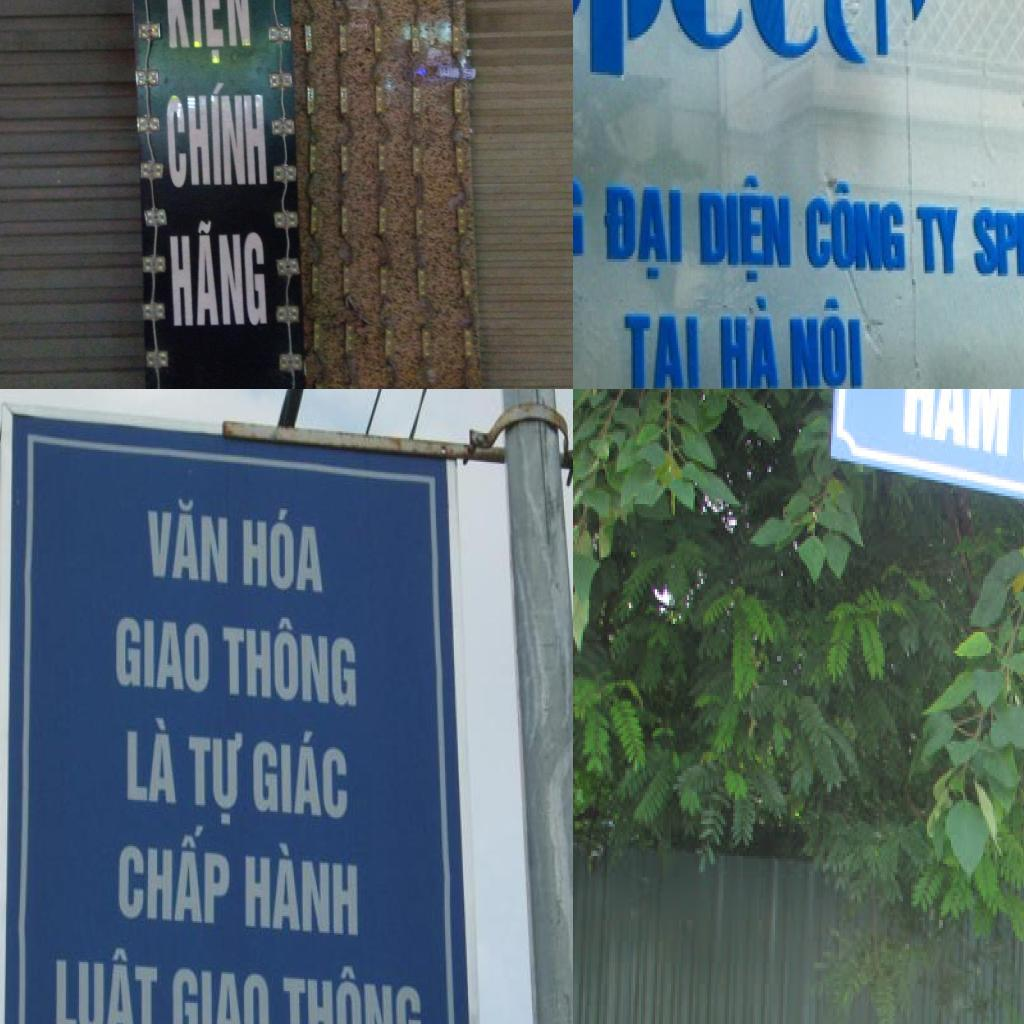text: (573, 0, 971, 129), (220, 612, 364, 720), (112, 820, 236, 938), (242, 839, 366, 947), (161, 79, 272, 190), (164, 218, 270, 329), (696, 173, 798, 288), (250, 722, 356, 826), (805, 176, 908, 282), (277, 955, 432, 1024), (139, 479, 235, 590), (49, 938, 168, 1024), (601, 173, 689, 288), (110, 600, 214, 691), (899, 389, 1019, 466), (239, 504, 330, 604), (164, 952, 276, 1024), (614, 305, 707, 389), (715, 290, 784, 389), (158, 0, 254, 69), (188, 718, 248, 827), (124, 709, 184, 807), (970, 193, 1024, 285), (914, 199, 962, 282)
